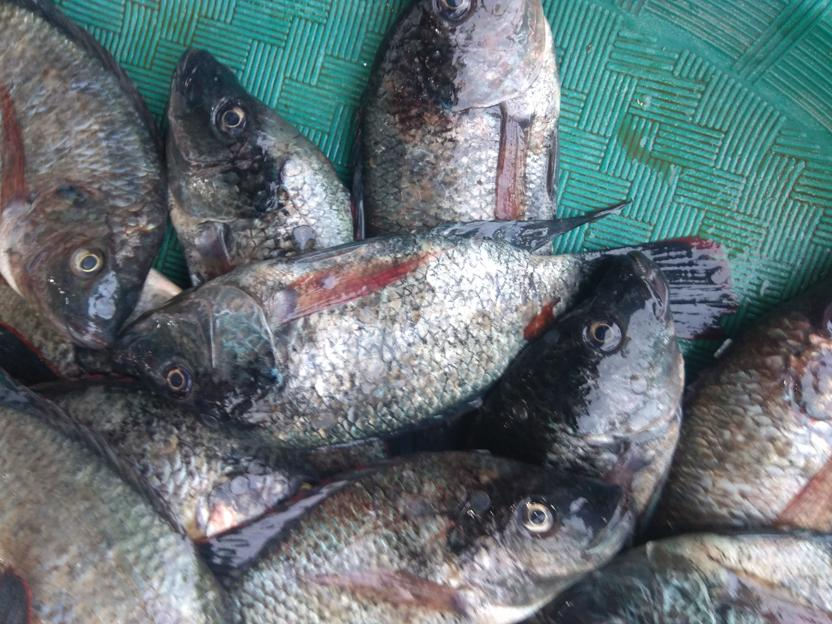Fish head: (514, 250, 686, 438), (108, 276, 283, 424), (460, 463, 635, 608), (6, 184, 158, 349), (164, 45, 296, 225), (391, 1, 549, 110)
Fish tail: (584, 234, 738, 356)
